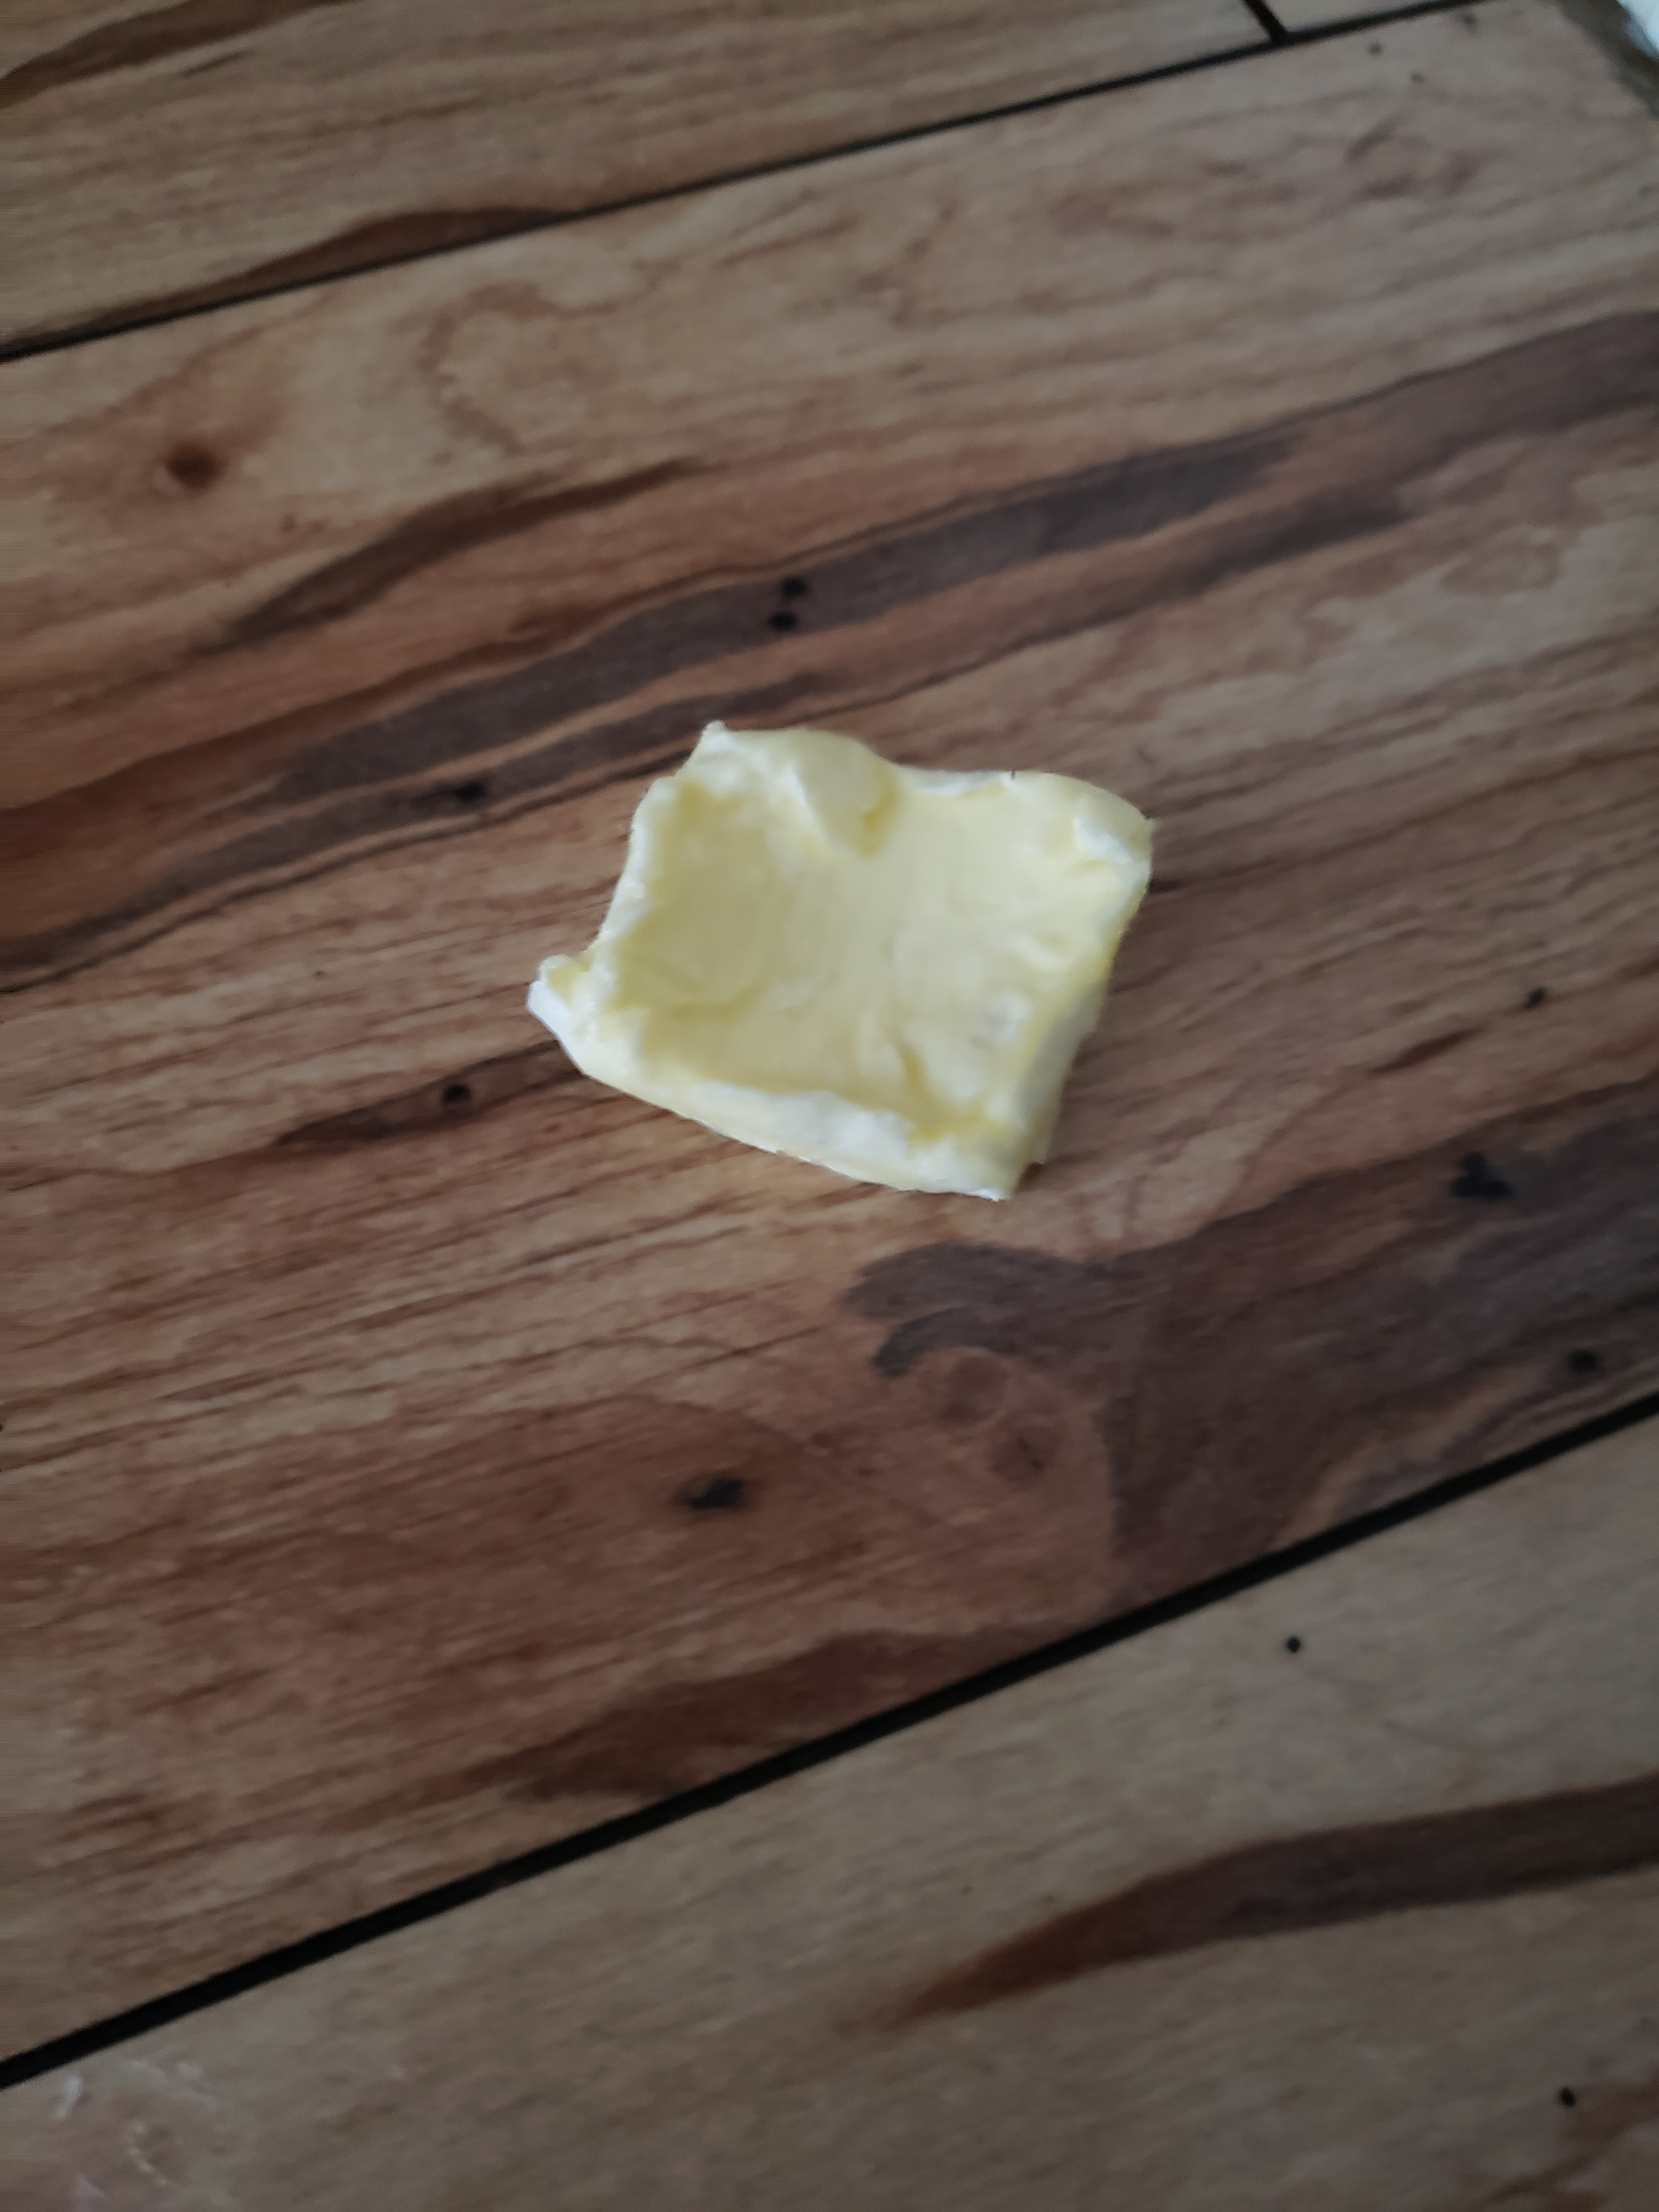Butter: (519, 718, 1150, 1200)
